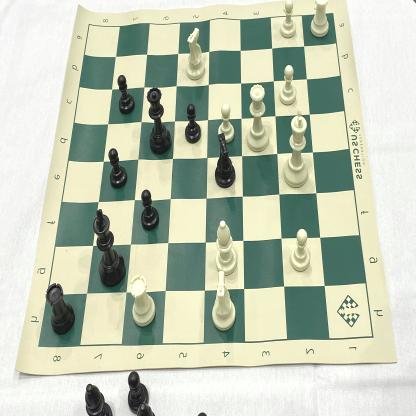black-king: (90, 208, 126, 289)
black-knight: (212, 133, 239, 189)
black-pawn: (107, 145, 130, 192), (116, 73, 136, 119), (140, 187, 160, 232), (184, 102, 202, 144)
black-queen: (145, 85, 172, 158)
black-rook: (44, 280, 76, 337)
white-bishop: (215, 218, 238, 277)
white-king: (282, 106, 310, 191)
white-knight: (210, 270, 238, 333), (184, 25, 207, 82)
white-pawn: (288, 227, 314, 273), (278, 63, 298, 107), (216, 102, 236, 144), (278, 0, 299, 40)
white-queen: (245, 81, 269, 154)
white-rook: (130, 271, 157, 329), (310, 0, 329, 41)
